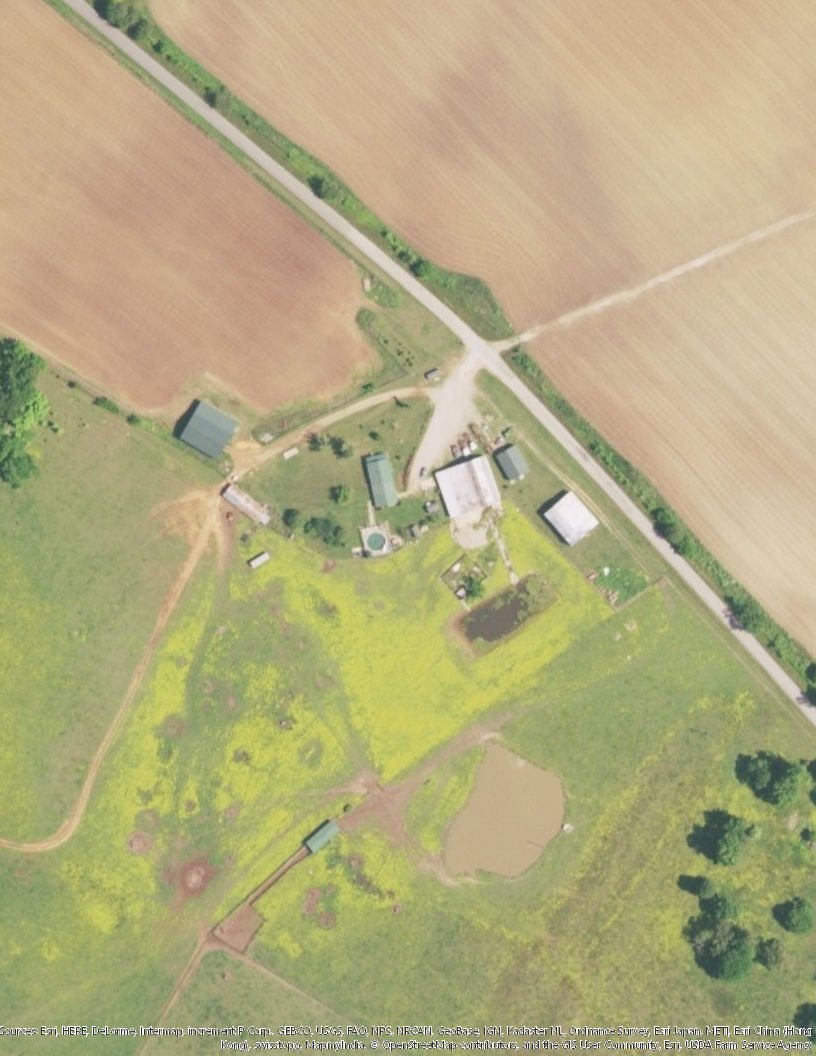cafo: (423, 447, 509, 521)
